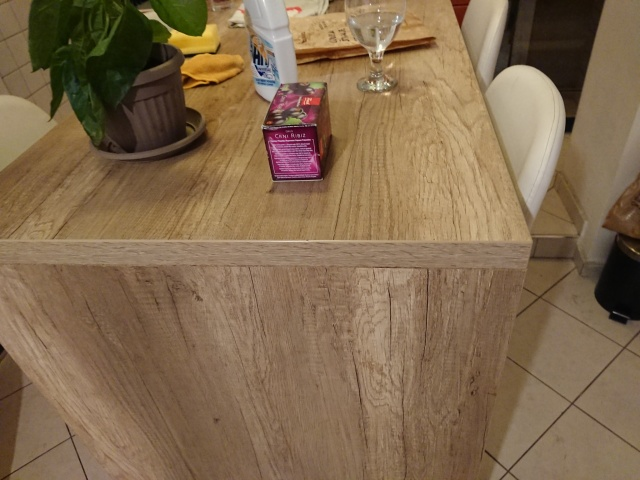Franck Black Currant Tea 60g: (259, 80, 335, 184)
